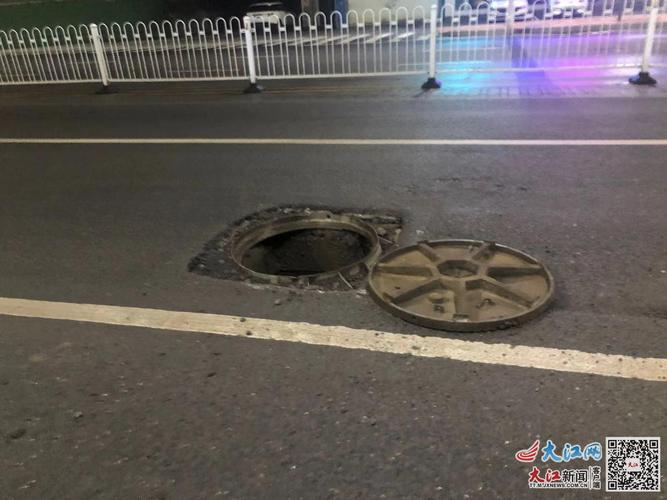uncovered: (180, 186, 568, 353)
